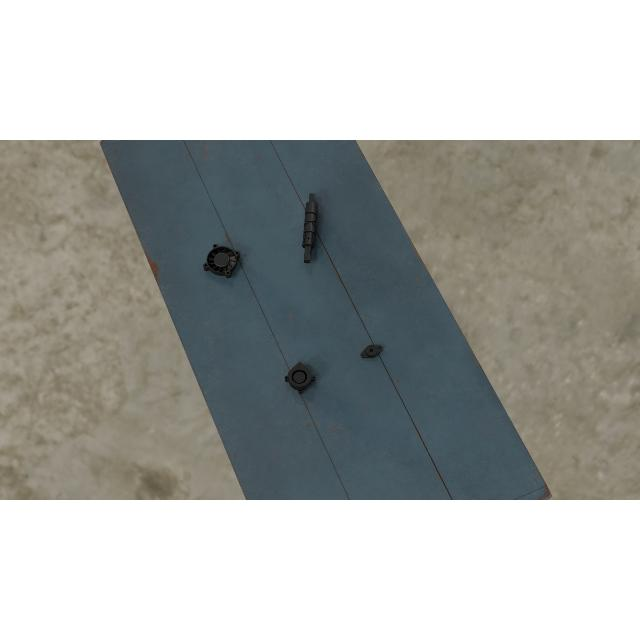Pieza1: (302, 192, 318, 264)
Pieza2: (358, 341, 384, 362)
Pieza3: (284, 360, 316, 396)
Pieza4: (202, 242, 242, 280)
